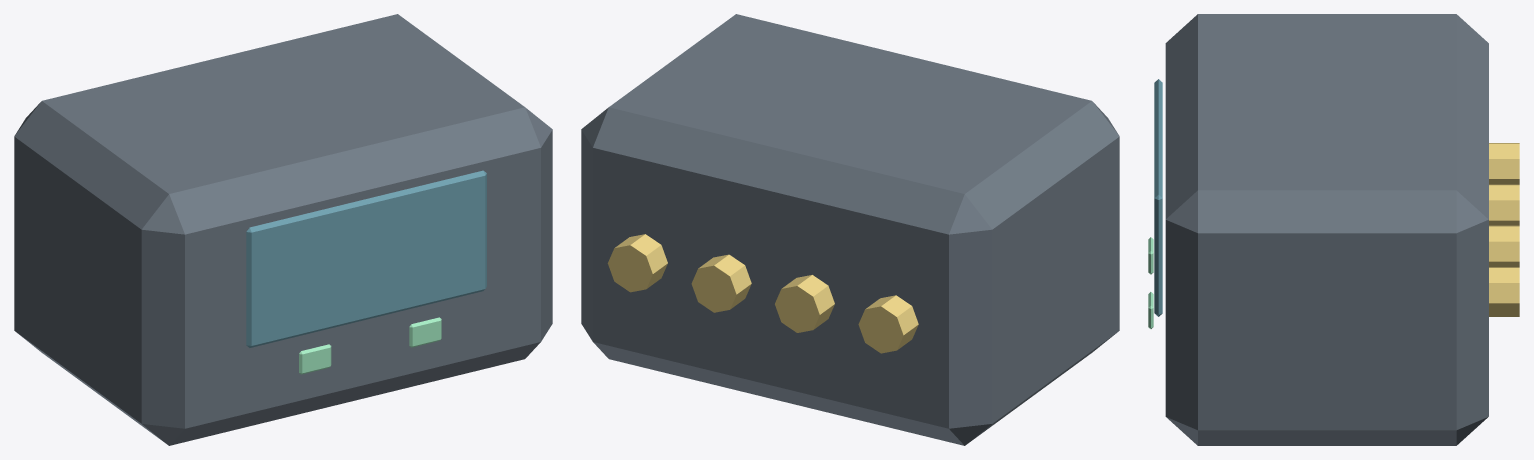
File: FTF_Advanced_VehicleControlModule.glb
The picture shows the model from 3 angles, left to right: view 1: azimuth 30°, elevation 25°; view 2: azimuth 150°, elevation 25°; view 3: azimuth 270°, elevation 25°; orthographic projection.
Visible parts, largest first — view 1: ControlModuleBody, ControlScreen, StatusLight_L, StatusLight_R; view 2: ControlModuleBody, Connector_+0.08, Connector_+0.25, Connector_-0.08, Connector_-0.25; view 3: ControlModuleBody, ControlScreen, Connector_+0.25, Connector_+0.08, Connector_-0.08, Connector_-0.25.
Part boxes in pixels (left/top/right/bottom): ControlModuleBody: left=14, top=14, right=552, bottom=445; ControlScreen: left=246, top=170, right=486, bottom=347; StatusLight_L: left=299, top=344, right=331, bottom=374; StatusLight_R: left=409, top=317, right=441, bottom=347; ControlModuleBody: left=581, top=14, right=1119, bottom=445; Connector_+0.08: left=691, top=254, right=751, bottom=312; Connector_+0.25: left=607, top=234, right=667, bottom=292; Connector_-0.08: left=775, top=275, right=834, bottom=332; Connector_-0.25: left=858, top=295, right=918, bottom=353; ControlModuleBody: left=1165, top=14, right=1488, bottom=445; ControlScreen: left=1154, top=79, right=1162, bottom=316; Connector_+0.25: left=1489, top=267, right=1519, bottom=316; Connector_+0.08: left=1489, top=225, right=1519, bottom=267; Connector_-0.08: left=1489, top=184, right=1519, bottom=225; Connector_-0.25: left=1489, top=143, right=1519, bottom=184.
Bounding box in the file's own units: 0.82 × 0.48 × 0.632.
